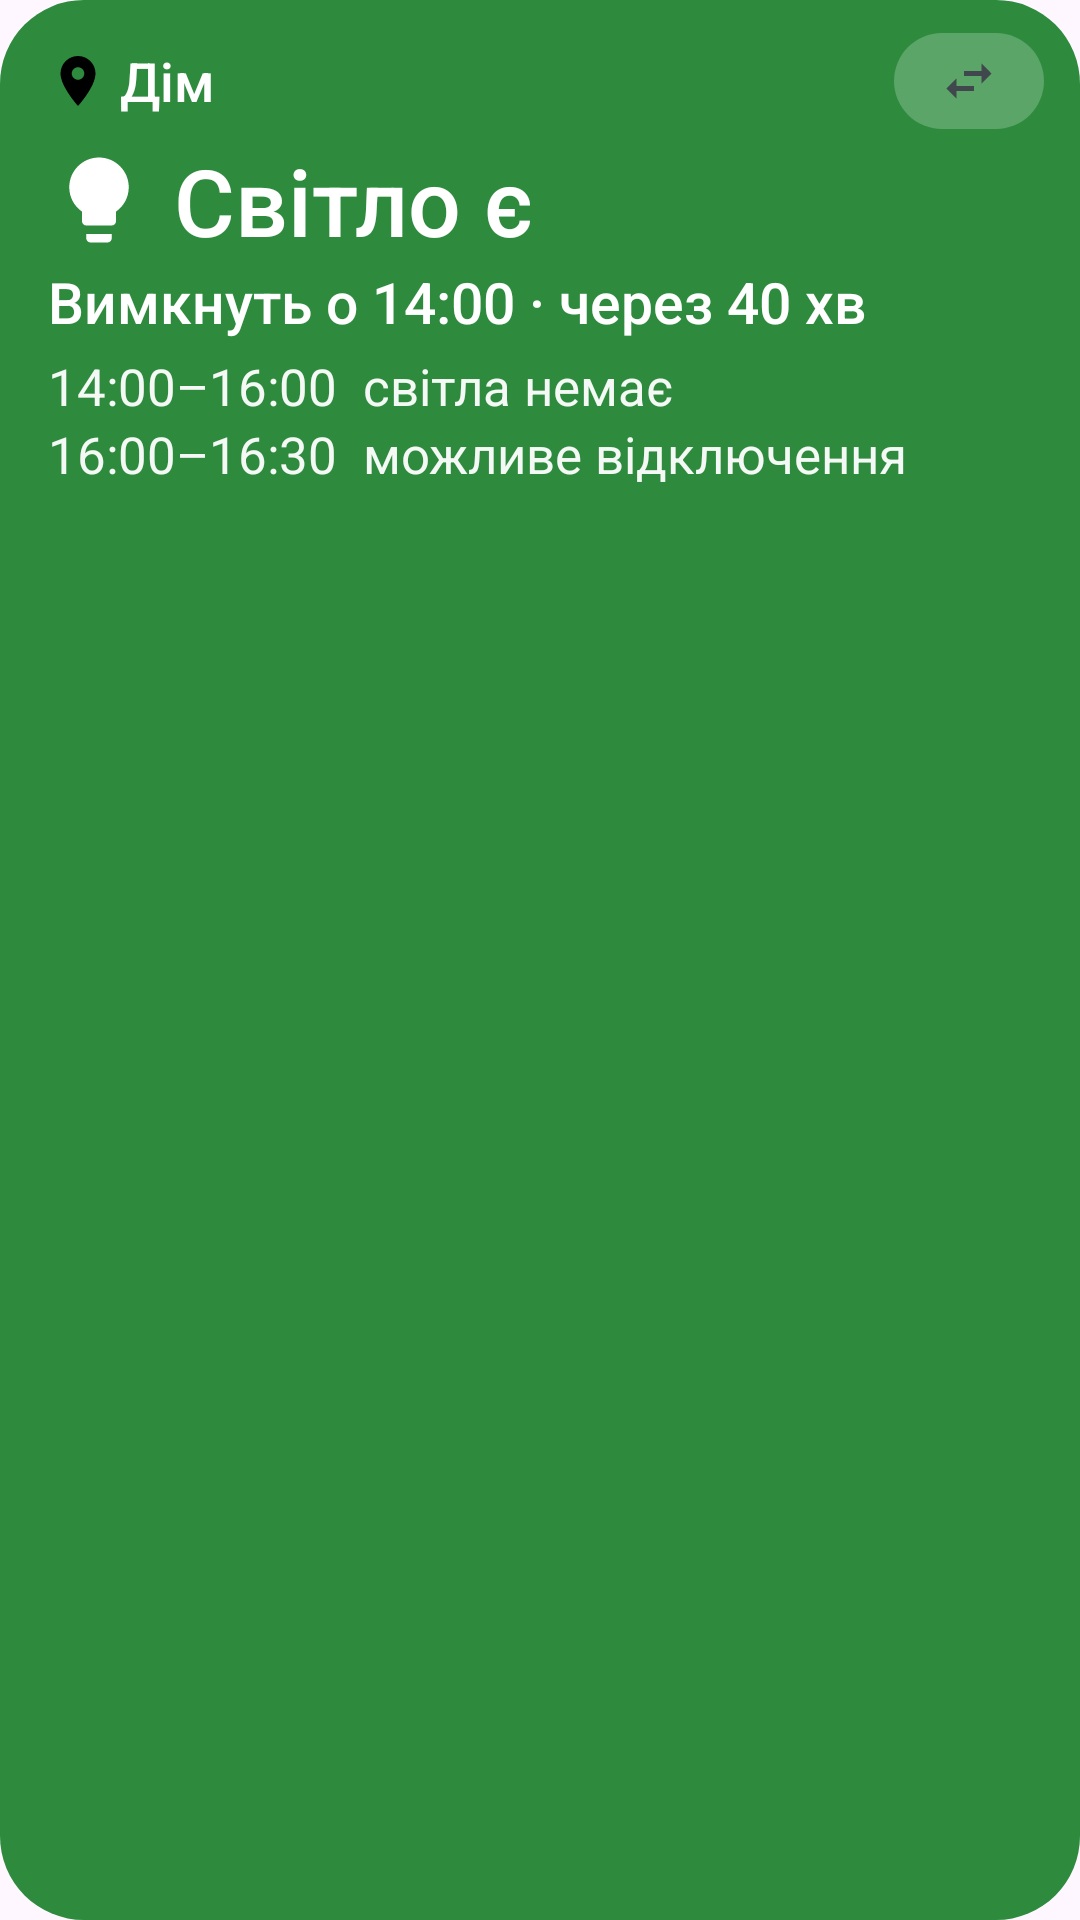

Named icons in this screenshot (1080px×1920px) and their bounding boxes, bbox=(x1, y1, x2, y2):
place: bbox=(60, 56, 96, 106)
status on: bbox=(69, 157, 129, 243)
Інша адреса: bbox=(894, 33, 1044, 129)
